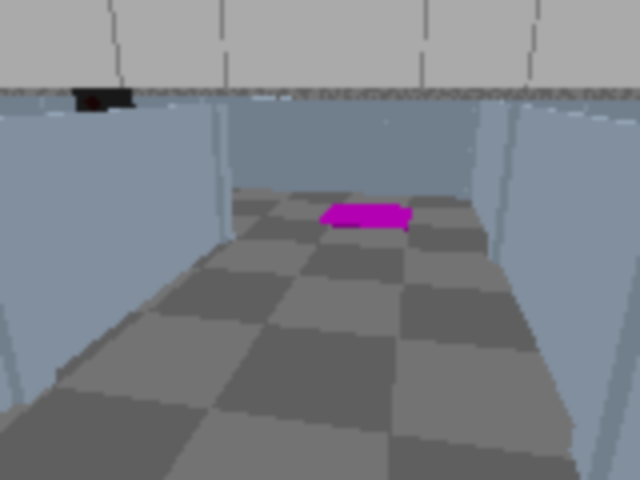goal_zone: (317, 203, 411, 230)
